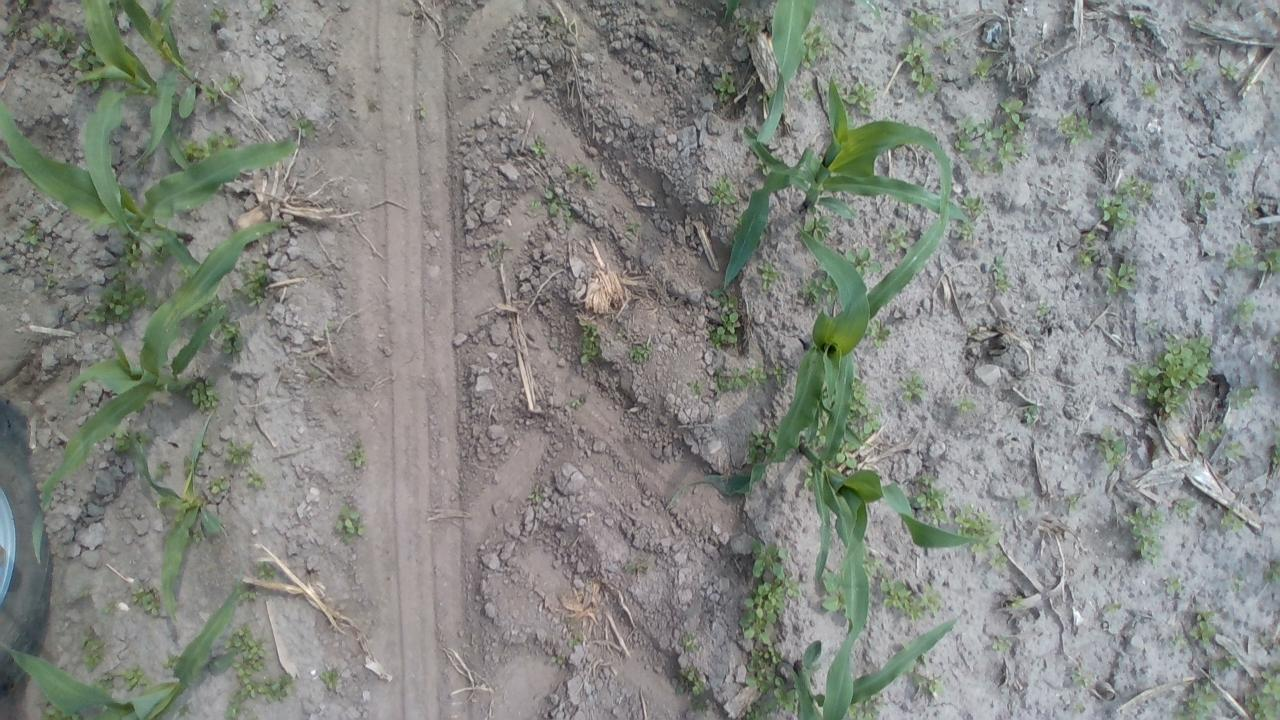Maize: (667, 206, 960, 510), (35, 216, 288, 558), (796, 343, 1000, 720), (710, 69, 970, 295), (0, 93, 306, 280), (71, 0, 203, 256), (5, 585, 251, 720), (135, 418, 226, 628), (788, 616, 961, 720), (118, 0, 207, 170), (727, 1, 824, 154)
Weeds: (1124, 316, 1216, 414), (735, 544, 801, 646), (954, 98, 1030, 170), (744, 644, 797, 712), (878, 568, 941, 622), (87, 271, 150, 324), (1122, 507, 1166, 567), (222, 626, 274, 674), (705, 288, 744, 349), (899, 36, 938, 96), (122, 238, 184, 274), (710, 360, 772, 394), (954, 508, 999, 552), (912, 475, 950, 527), (233, 256, 270, 308), (850, 377, 882, 435), (1247, 667, 1280, 720), (532, 187, 572, 227), (1178, 682, 1220, 720), (68, 37, 102, 81), (674, 664, 709, 706), (798, 23, 832, 66), (821, 568, 850, 616), (1098, 195, 1136, 231), (224, 675, 254, 720), (844, 244, 882, 279), (32, 19, 74, 50), (1056, 111, 1094, 145), (255, 674, 298, 704), (576, 321, 604, 366), (332, 502, 365, 540), (80, 630, 108, 674), (182, 132, 238, 154), (1099, 430, 1127, 474), (841, 80, 877, 114), (112, 426, 152, 455), (746, 428, 778, 464), (1104, 260, 1136, 296), (800, 272, 836, 304), (908, 668, 944, 698), (801, 208, 831, 244), (1187, 612, 1218, 646), (187, 381, 220, 411), (1077, 231, 1104, 267), (217, 320, 244, 356), (133, 586, 163, 618), (119, 662, 151, 692), (1220, 500, 1248, 534), (1118, 175, 1152, 203), (712, 70, 742, 100), (709, 176, 738, 207), (838, 438, 864, 472), (991, 252, 1012, 294), (3, 5, 28, 40), (223, 440, 254, 468), (882, 226, 914, 253), (1226, 242, 1256, 270), (36, 699, 76, 720), (906, 8, 941, 32), (1232, 297, 1258, 328), (1228, 383, 1258, 409), (900, 373, 926, 403), (846, 698, 883, 719), (758, 257, 780, 292), (1194, 425, 1222, 452), (1256, 246, 1280, 276), (868, 319, 892, 349), (572, 164, 598, 191), (192, 298, 221, 322), (253, 558, 281, 582), (293, 115, 318, 141), (971, 55, 997, 79), (1222, 146, 1248, 170), (1209, 652, 1238, 673), (235, 579, 258, 604), (19, 224, 46, 245), (209, 3, 232, 27), (1194, 190, 1218, 213), (962, 194, 985, 218), (742, 701, 772, 719), (245, 467, 268, 490), (631, 340, 652, 365), (1253, 636, 1279, 656), (1225, 571, 1247, 594), (348, 442, 366, 470), (1164, 574, 1186, 596), (1014, 492, 1038, 512), (1224, 436, 1244, 460), (1070, 668, 1094, 688), (568, 622, 586, 648), (1180, 58, 1206, 76), (223, 74, 245, 95), (206, 475, 228, 496), (162, 648, 182, 671), (988, 551, 1011, 571), (1219, 64, 1243, 83), (1269, 431, 1280, 472), (1140, 80, 1162, 100), (488, 240, 512, 258), (862, 549, 877, 577), (1063, 492, 1085, 511), (1168, 627, 1186, 650), (970, 154, 990, 174), (1174, 499, 1194, 519), (41, 272, 61, 292), (990, 634, 1011, 653), (321, 668, 340, 689), (739, 16, 758, 37), (954, 396, 976, 414), (202, 81, 220, 103), (416, 99, 433, 122), (1270, 333, 1280, 372), (626, 557, 650, 573), (526, 486, 546, 505), (1021, 403, 1040, 423), (529, 138, 548, 158), (770, 363, 786, 386), (1004, 594, 1024, 612), (154, 458, 171, 479), (814, 417, 826, 446), (682, 633, 701, 651), (260, 0, 278, 19), (1182, 174, 1201, 192), (956, 220, 973, 240), (570, 394, 588, 412), (1246, 72, 1268, 86), (1267, 562, 1280, 585), (1128, 12, 1146, 28), (822, 389, 837, 408), (803, 468, 815, 491), (624, 221, 640, 238), (940, 34, 956, 51), (1242, 196, 1259, 212), (1102, 602, 1124, 614), (1034, 300, 1050, 316), (756, 88, 774, 102), (544, 12, 561, 26), (614, 324, 628, 341), (690, 380, 704, 397), (804, 86, 818, 102), (550, 653, 567, 666), (102, 670, 114, 686), (198, 438, 209, 455), (760, 160, 770, 174)
